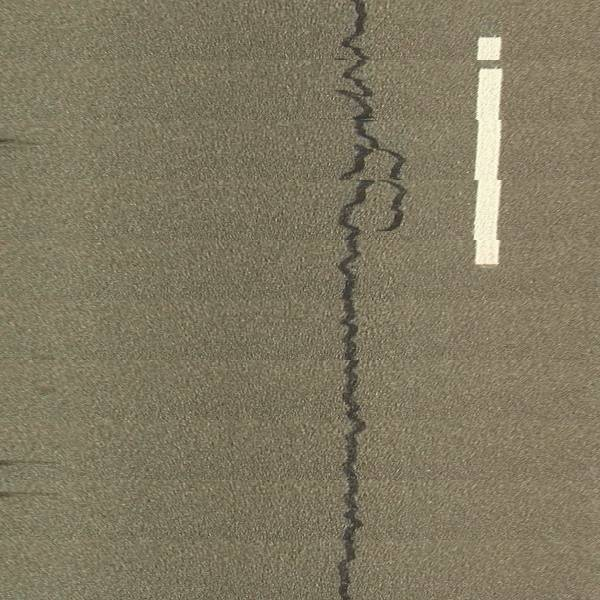road_damage: (330, 1, 412, 600)
